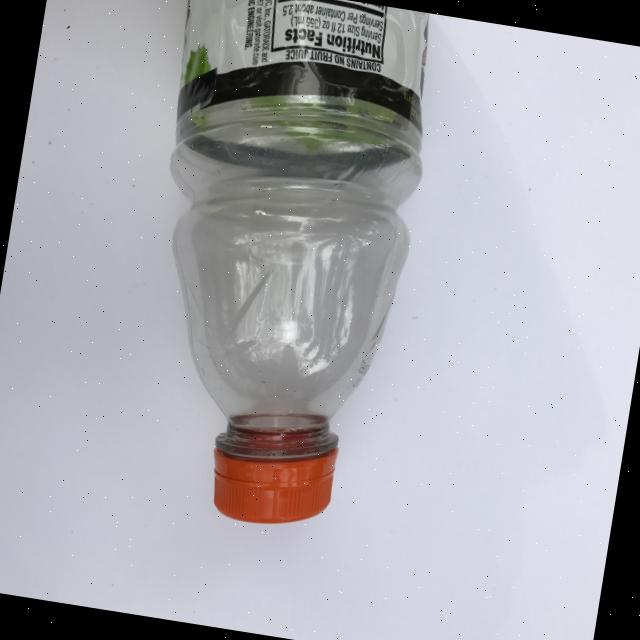plastic: (75, 0, 468, 546)
